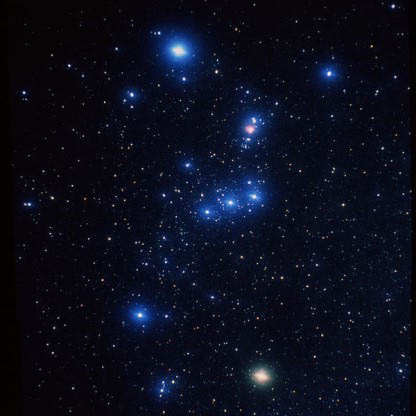Orion: (240, 356, 280, 396), (165, 32, 203, 73), (126, 300, 150, 338), (319, 59, 344, 88), (241, 182, 267, 208), (222, 191, 240, 215), (194, 203, 214, 223)
